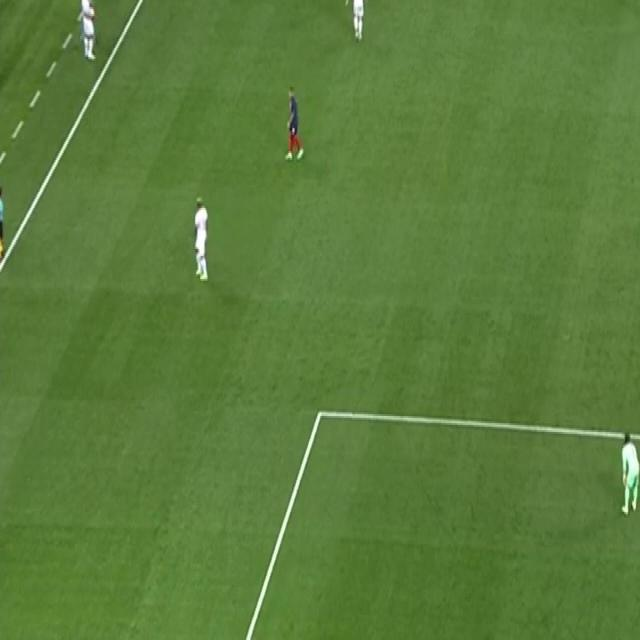ball: (89, 6, 95, 18)
player-white: (620, 430, 640, 516), (284, 86, 304, 160), (194, 197, 210, 281), (345, 0, 367, 41), (81, 0, 95, 58), (82, 0, 98, 50)
